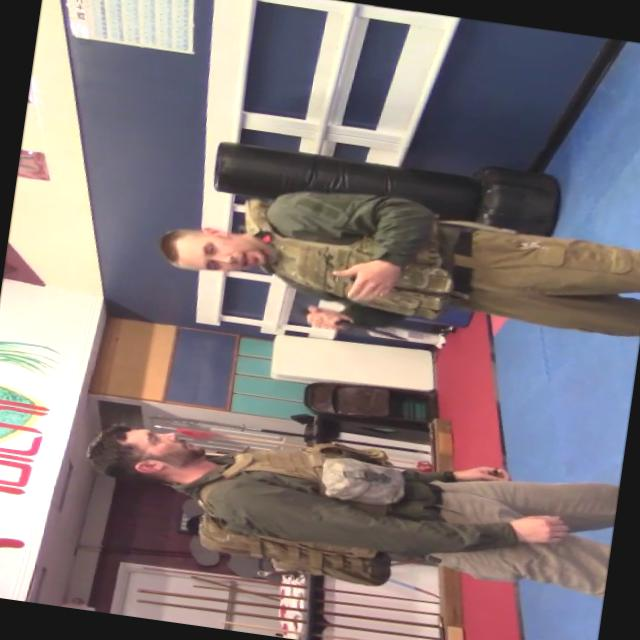knife: (283, 298, 431, 361)
